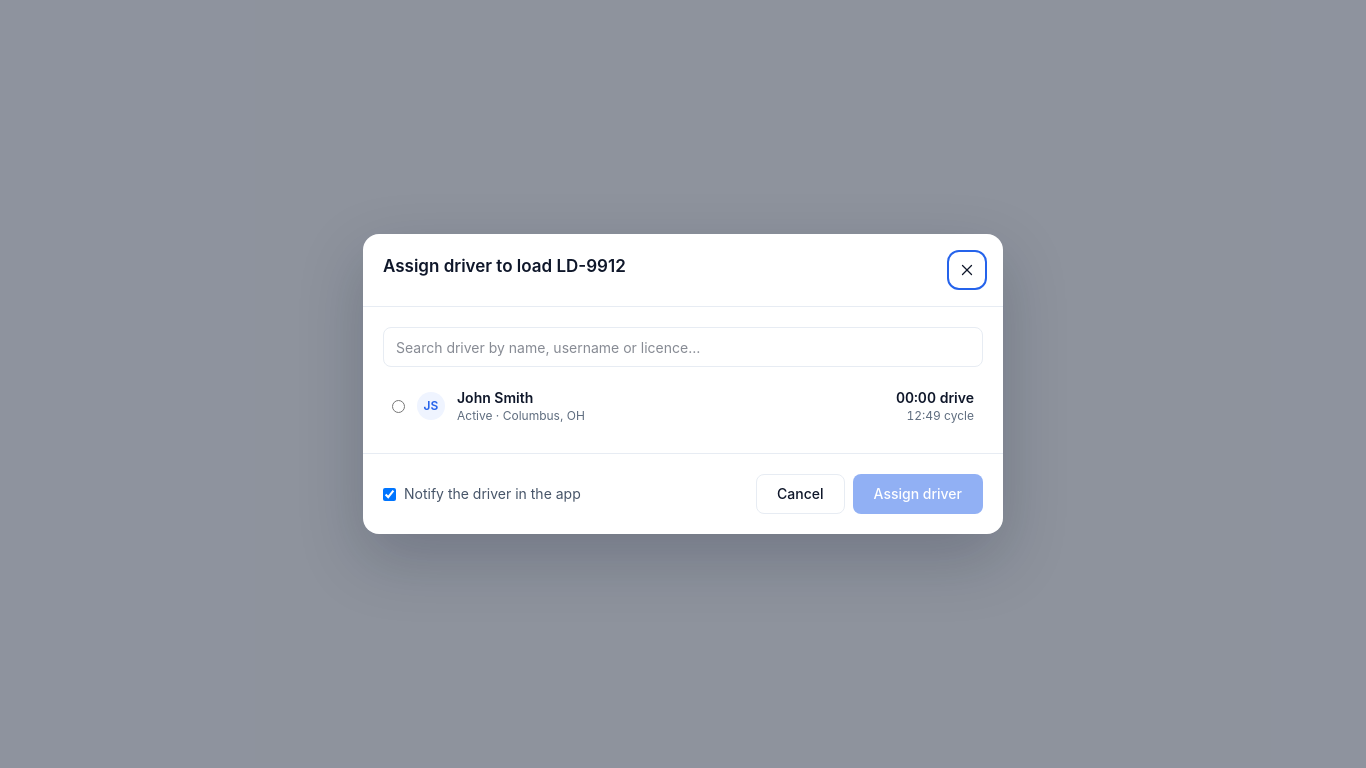
Test: AssignLoadModal — 11.4 load variant › BE-001 — a driver / unit refusal lands where it belongs, not in a toast › 409 VEHICLE_OUT_OF_SERVICE names the unit
Click the text "John Smith": (495, 398) [457,389,533,406]
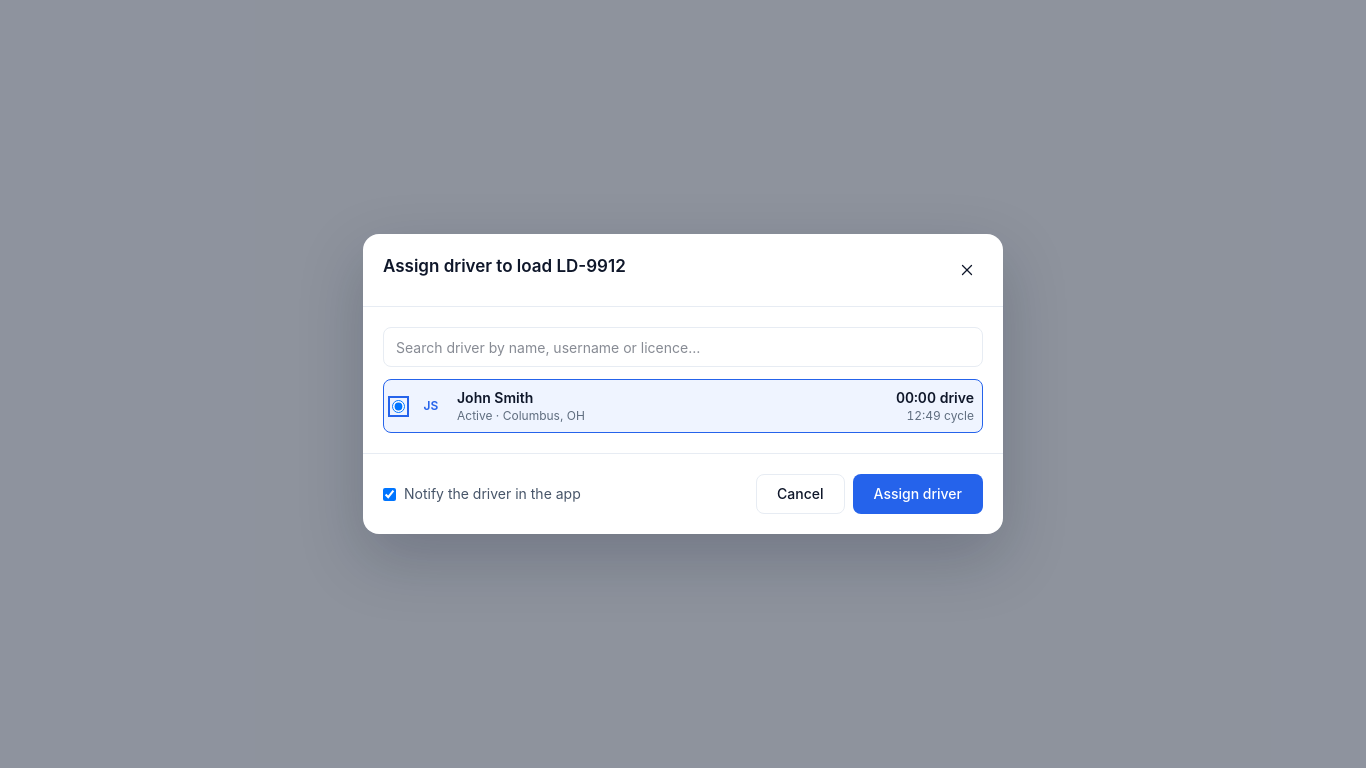
Click the button "Assign driver": (918, 494) [853,474,983,514]
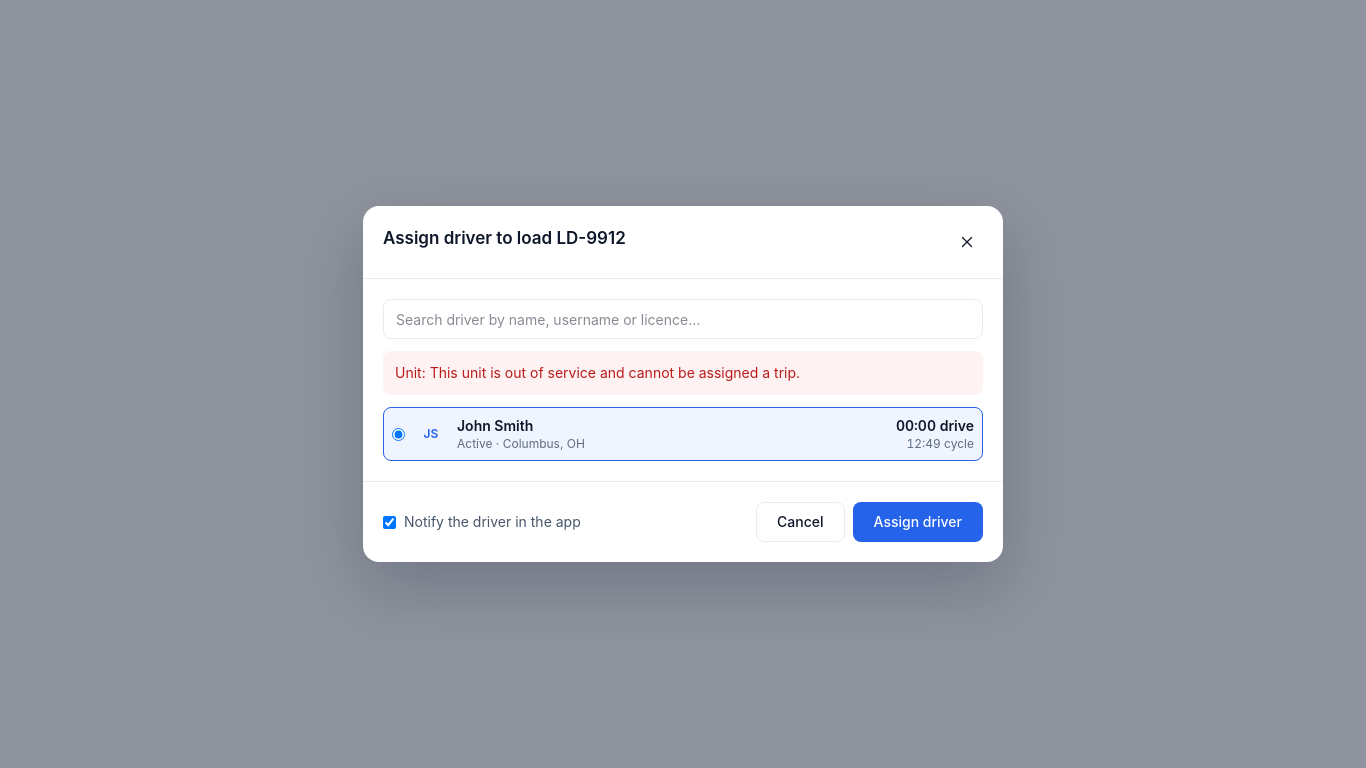
Expected: the message reads "Unit: This unit is out of service and cannot be assigned a trip.", [383,351,983,395]
